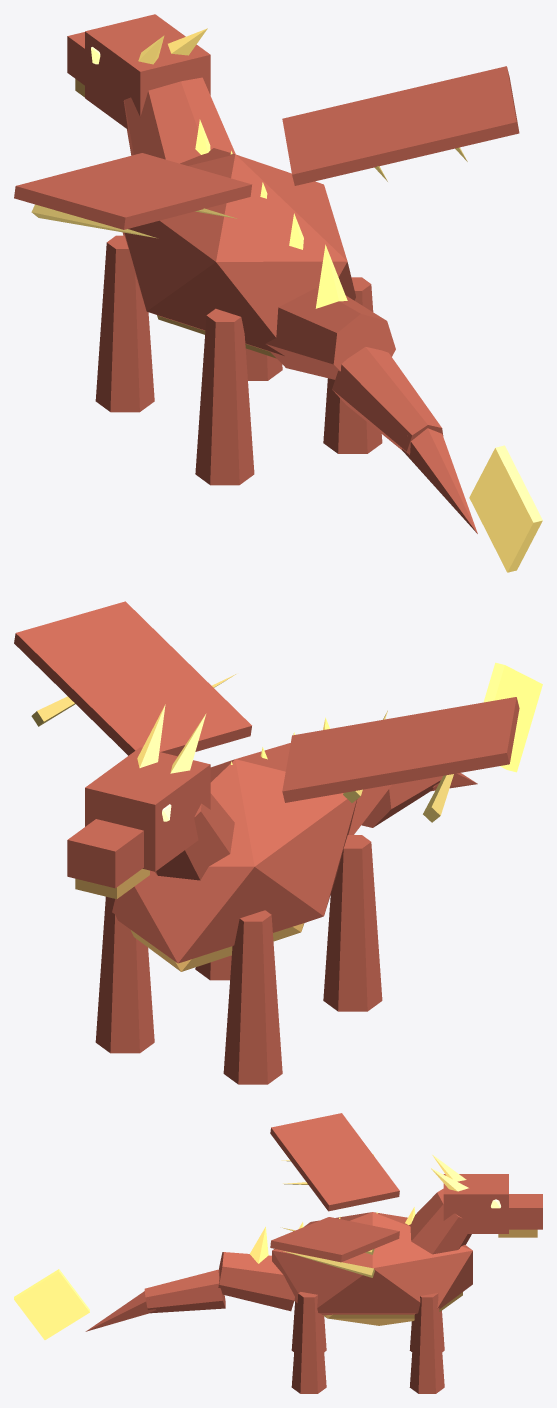
Rendered from dragon_ember.glb.
3 renders of one model, top to bottom at view 1: azimuth 30°, elevation 25°; view 2: azimuth 150°, elevation 25°; view 3: azimuth 270°, elevation 25°, orthographic. The views are drawn at different scales.
Visible parts, largest first — view 1: DragonBody; view 2: DragonBody; view 3: DragonBody.
Part boxes in pixels (<box>): DragonBody: <box>14,14,542,572</box>; DragonBody: <box>14,601,542,1084</box>; DragonBody: <box>14,1113,542,1393</box>.
Bounding box in the file's own units: 2.94 × 2 × 4.6.
